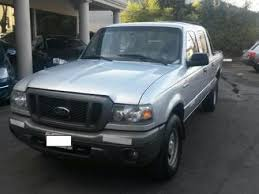car: (8, 24, 220, 171), (31, 34, 89, 72), (1, 41, 14, 102), (241, 37, 259, 70)
